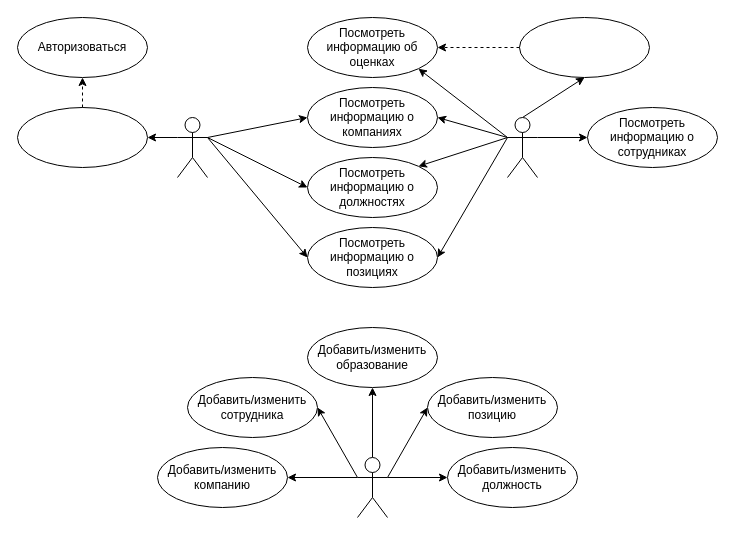
This 735x556 diagram has some shape labels left out. The shapes that lost their labels are listed below. From the top down, each one's box as (x1, y1, x2, y2) in pixels, then its label:
(518, 16, 650, 78): Выставить оценки непосредственным подчиненным
(16, 106, 148, 168): Зарегистрироваться
(176, 116, 208, 178): Гость
(506, 116, 538, 178): Сотрудник
(356, 456, 388, 518): Администратор
